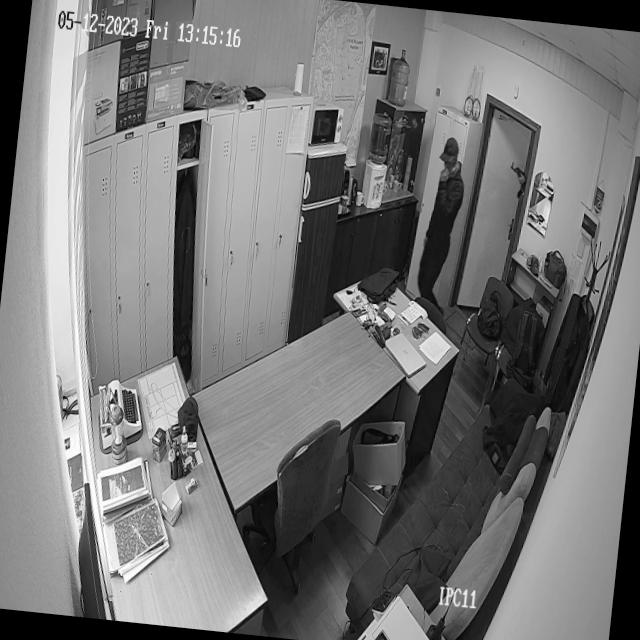gun: (502, 148, 531, 204)
person: (417, 138, 470, 302)
